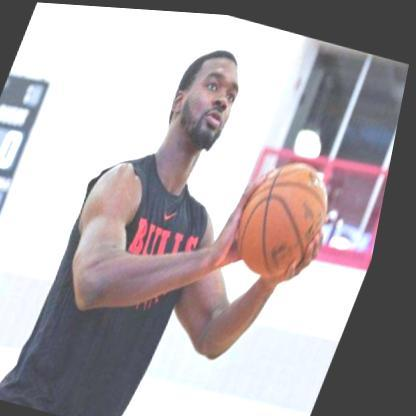basketball: (229, 149, 349, 282)
